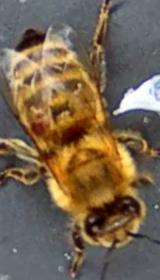varroa_mite: (26, 114, 54, 138)
